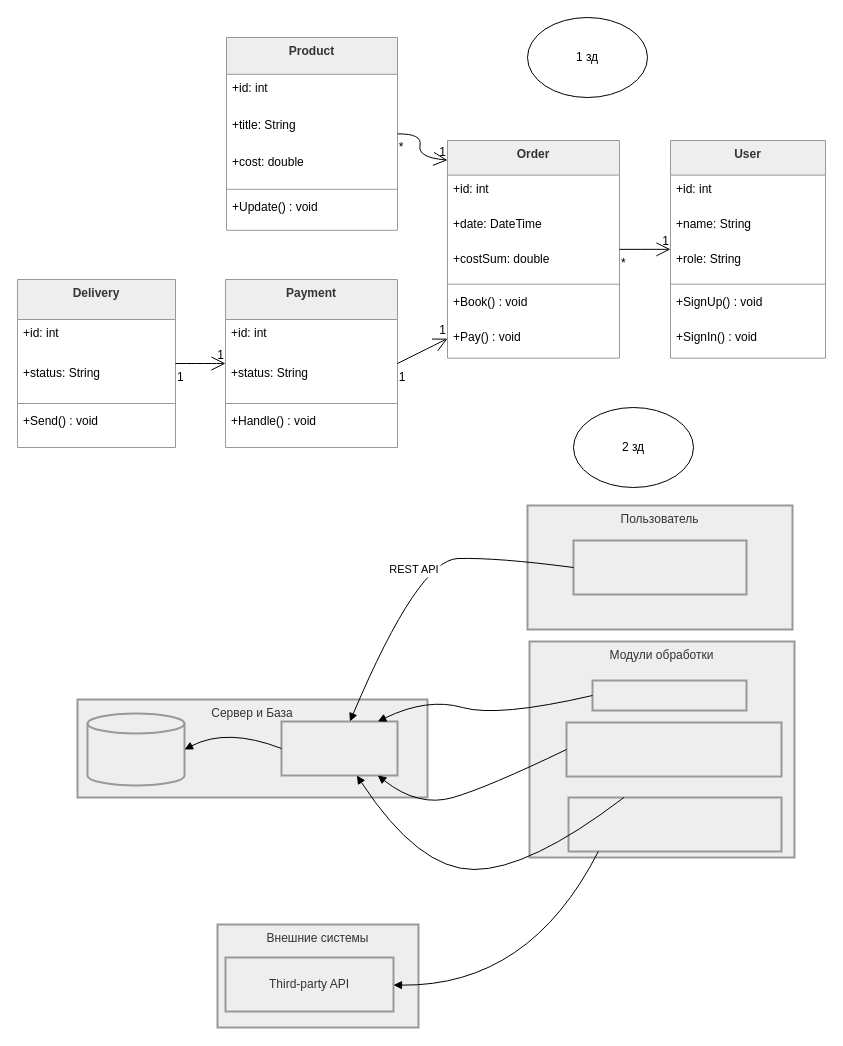
The diagram is 843 pixels wide and 1046 high, and some of its shapes have lost their labels. The centre of each missing label's shape, as x and y in pixels:
"«Backend Logic»" goes at [339,748].
"«Courier Integration»" goes at [674,824].
"«Database»" goes at [135,749].
"«Frontend App»" goes at [659,567].
"«Route Optimization»" goes at [673,749].
"«Warehouse»" goes at [669,695].
